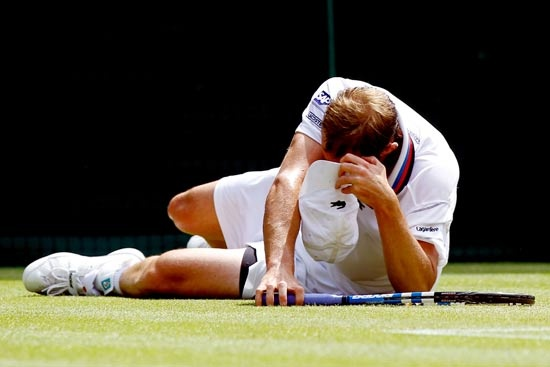falling: (19, 57, 470, 311)
